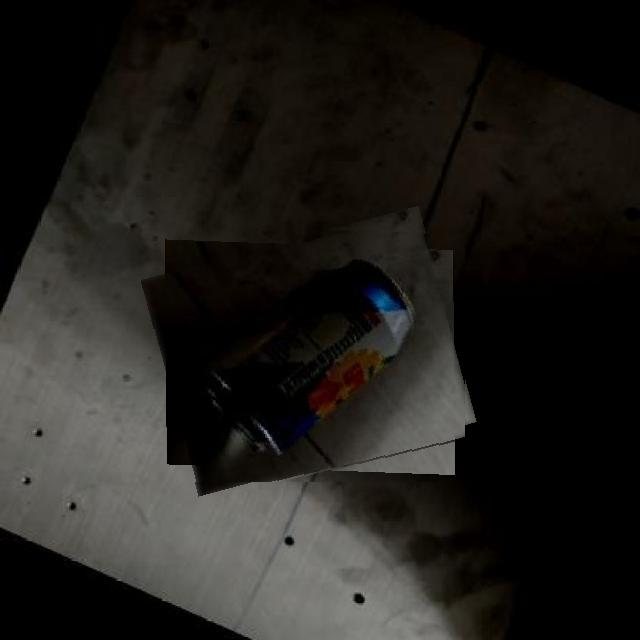recyclable: (153, 223, 465, 482)
